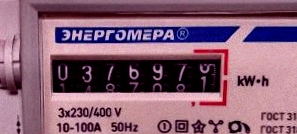0: (56, 61, 69, 81)
1: (198, 73, 209, 92)
3: (80, 62, 93, 82)
6: (127, 58, 140, 80)
7: (103, 60, 116, 81), (175, 60, 187, 82)
9: (151, 60, 163, 81)
screen: (42, 43, 233, 109)
